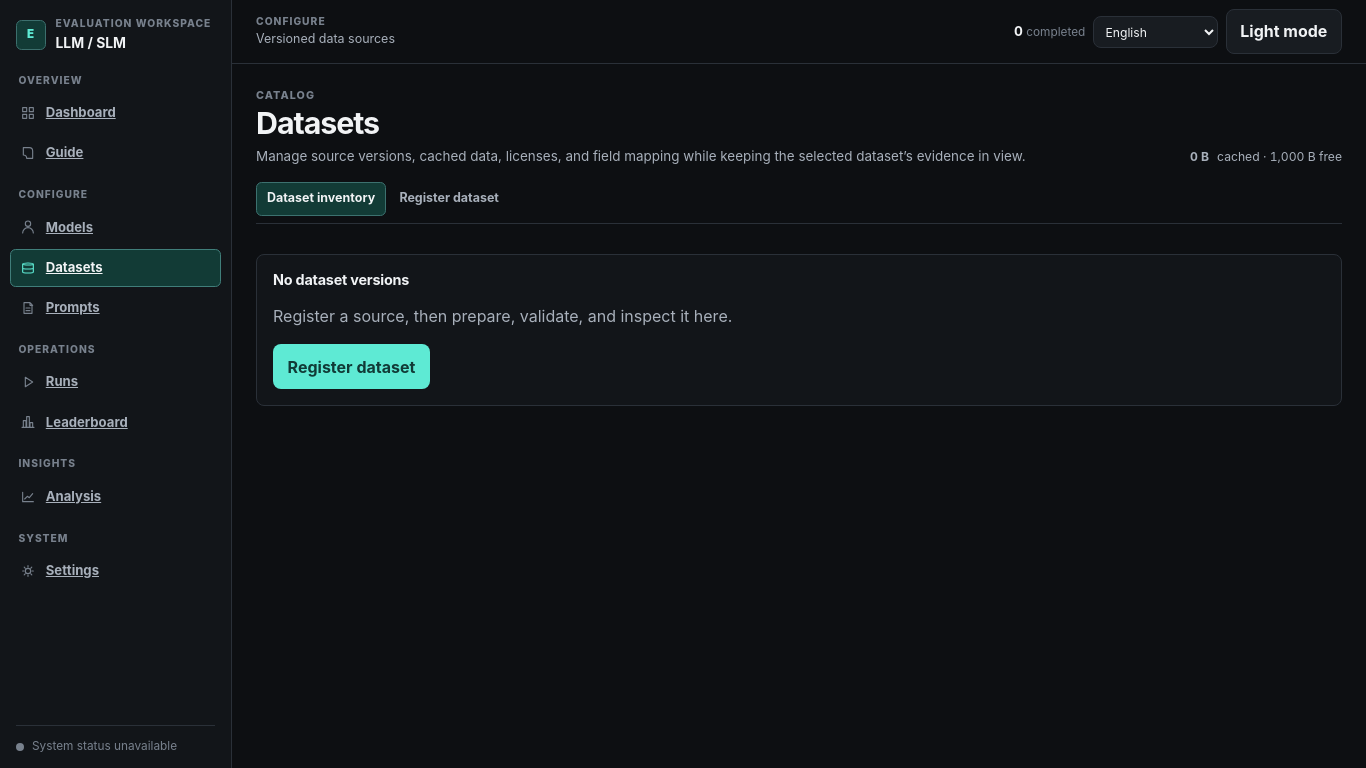
Test: workspace tab routing › opens dataset registration as an exclusive URL-backed tab
Click the tab "Register dataset": (449,199) [388,182,510,216]
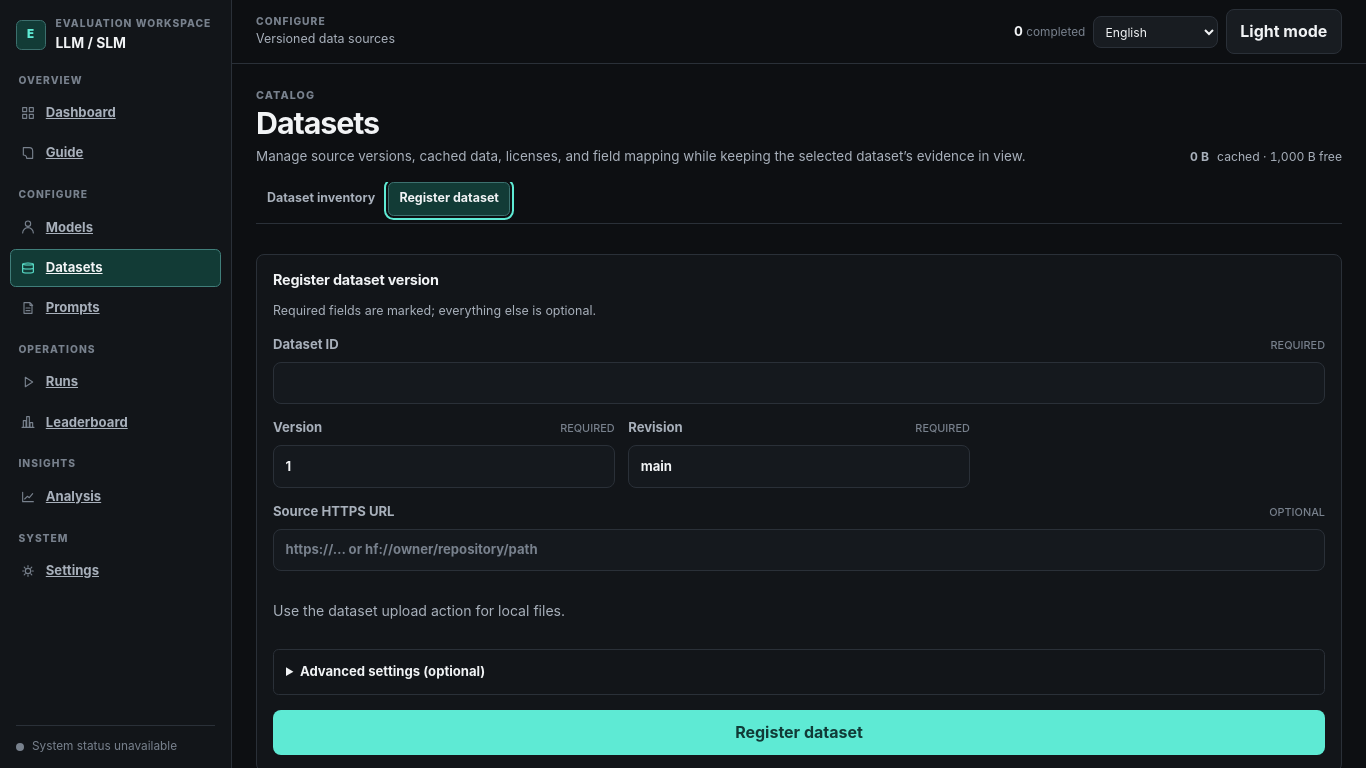
Expected: the heading "Register dataset version" is shown, [273,271,439,288]
Expected: the heading "No dataset versions" is gone
